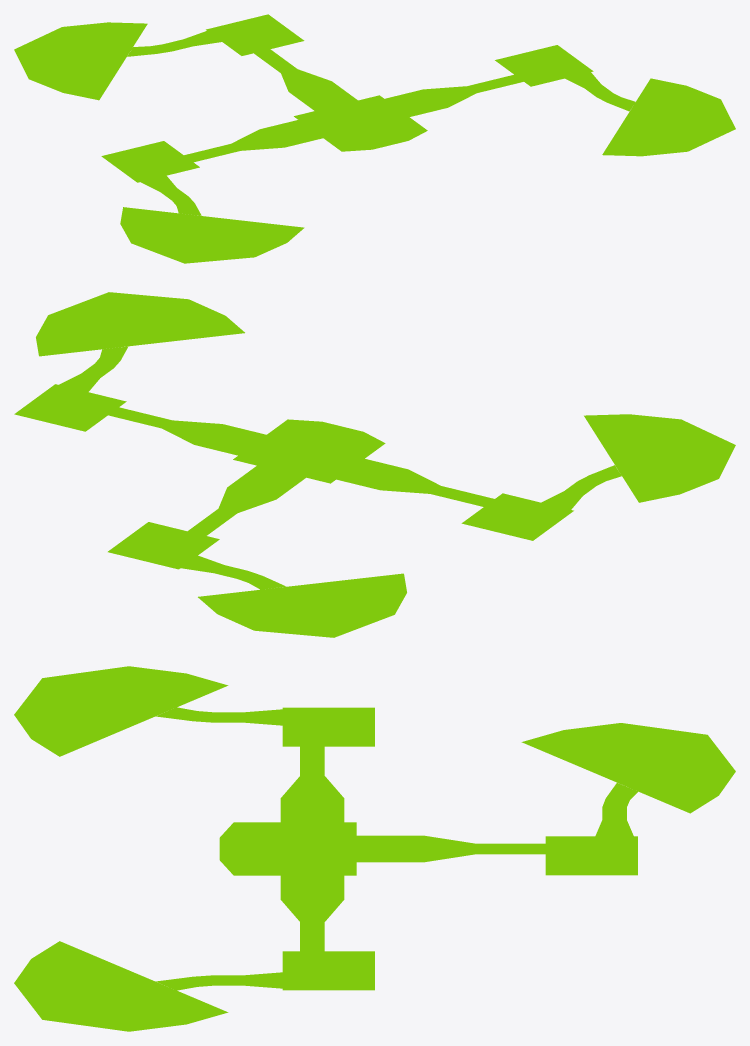
File: AST_floor_boundingBox.fbx
3 renders of one model, top to bottom at view 1: azimuth 30°, elevation 25°; view 2: azimuth 150°, elevation 25°; view 3: azimuth 270°, elevation 25°, orthographic. The views are drawn at different scales.
Visible parts, largest first — view 1: MSH_floor_boundingBox; view 2: MSH_floor_boundingBox; view 3: MSH_floor_boundingBox.
Part boxes in pixels (x1,y1,x2,y2): MSH_floor_boundingBox: (14,14,735,263); MSH_floor_boundingBox: (14,292,735,637); MSH_floor_boundingBox: (14,666,735,1031).
Bounding box in the file's own units: 6687 × 0 × 5581.
